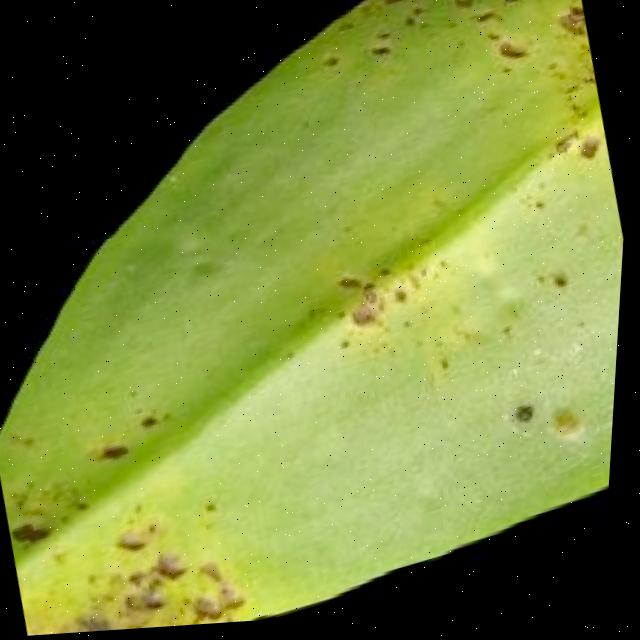mite: (285, 0, 627, 510), (311, 0, 529, 88), (505, 387, 589, 460), (15, 514, 58, 549), (508, 399, 544, 437), (313, 48, 346, 81), (575, 139, 605, 171), (514, 405, 539, 433), (366, 43, 392, 67), (140, 410, 164, 433), (549, 274, 573, 297), (316, 55, 340, 75), (448, 0, 474, 17), (497, 0, 522, 14)
